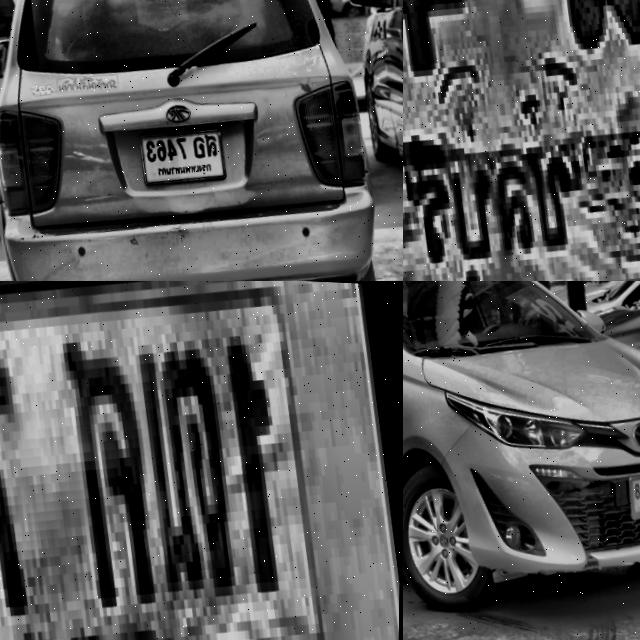license-plate: (0, 281, 403, 640), (403, 0, 640, 281), (139, 118, 229, 188), (620, 452, 640, 525)
